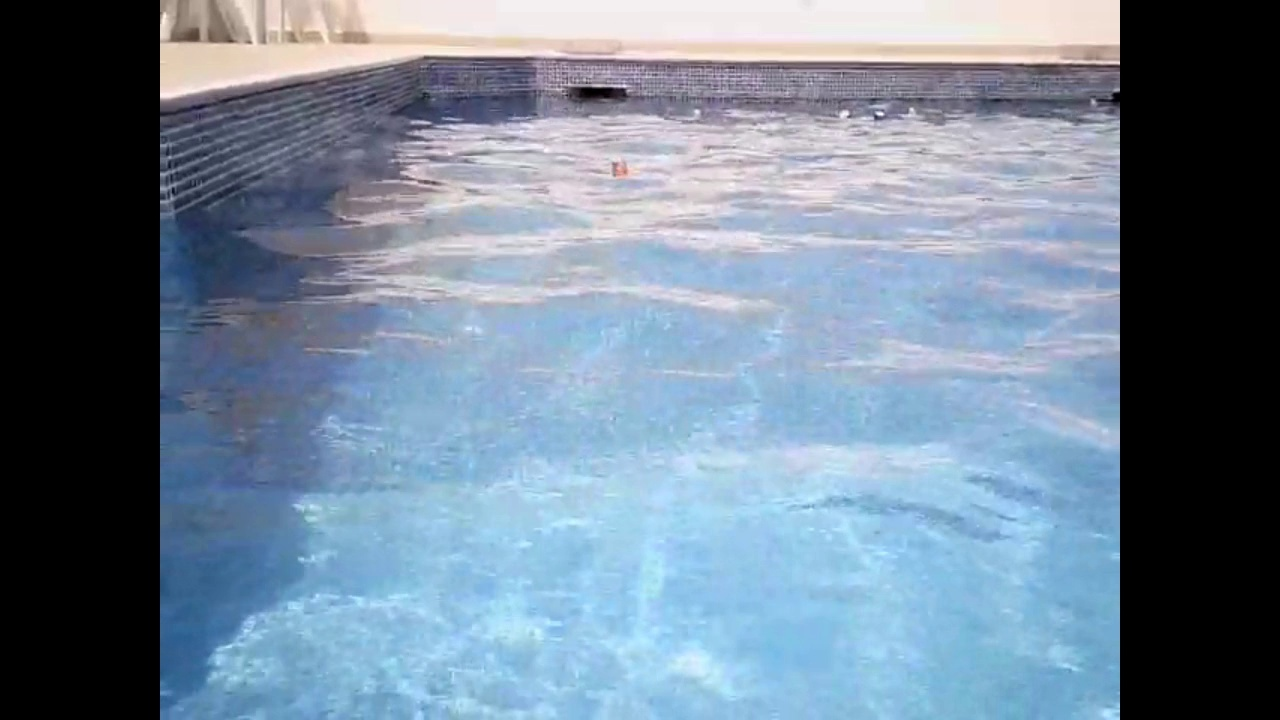debris: (602, 155, 634, 185), (870, 104, 889, 130), (1082, 92, 1102, 111), (836, 106, 853, 128), (689, 103, 708, 122), (902, 106, 920, 124)
